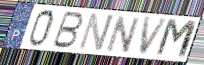0: (27, 8, 56, 48)
B: (50, 10, 85, 50)
M: (153, 18, 199, 61)
N: (76, 11, 116, 52), (105, 14, 142, 54)
V: (138, 17, 171, 57)
